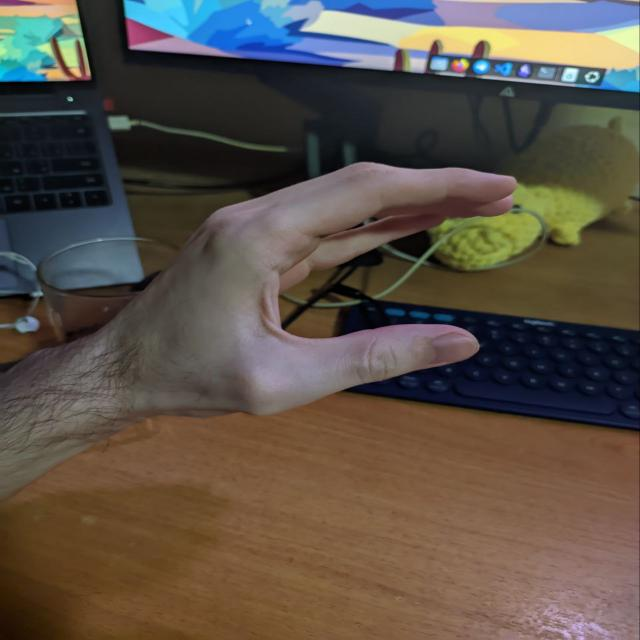s: (71, 87, 559, 403)
